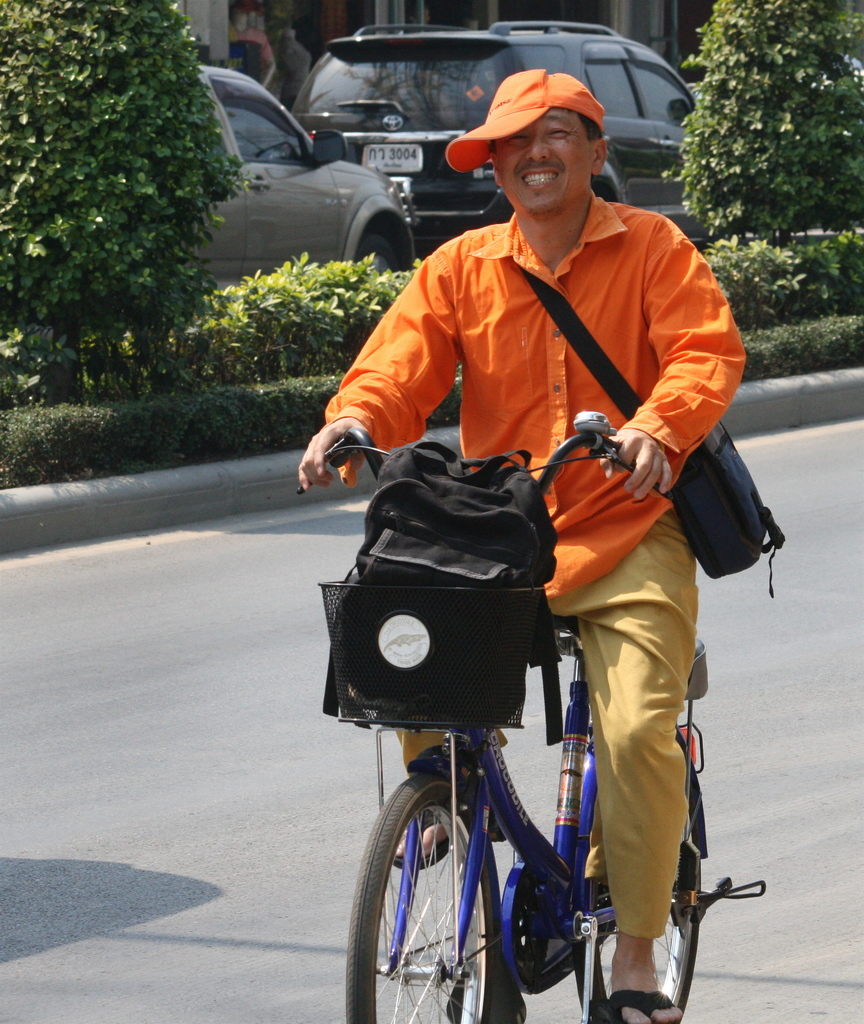Bike_toward: (240, 411, 706, 1024)
